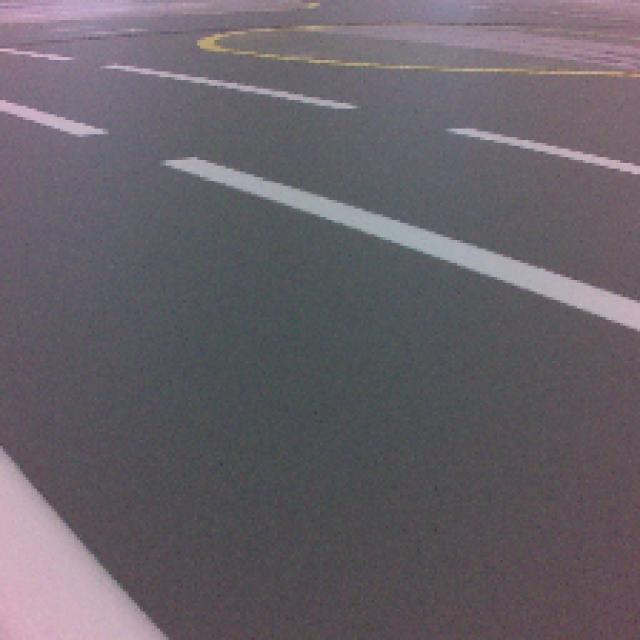Guard rail: (0, 447, 167, 638)
